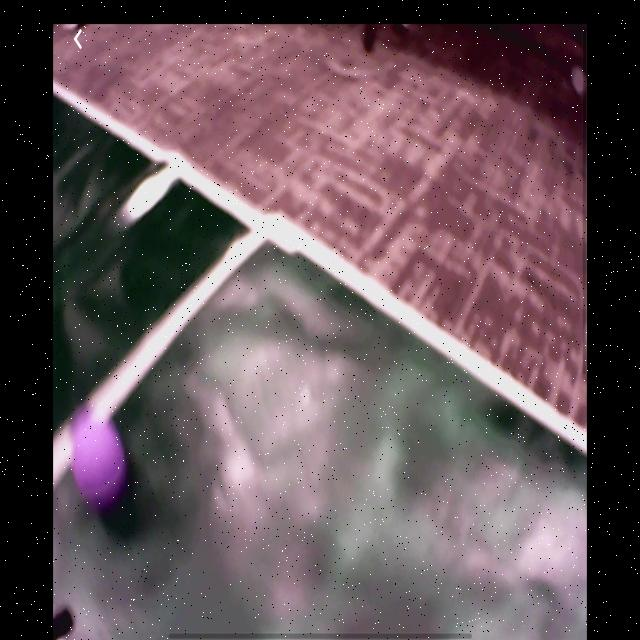ball: (69, 414, 127, 511)
